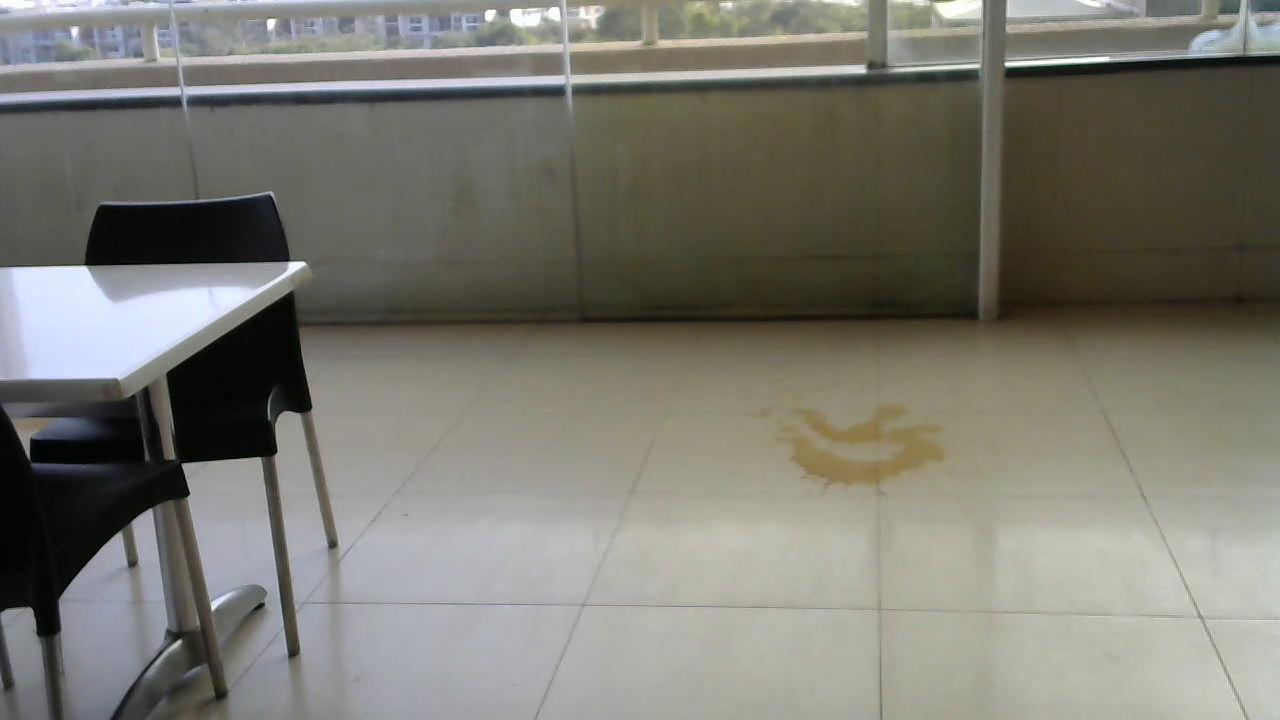dirty_floor: (758, 371, 958, 500)
